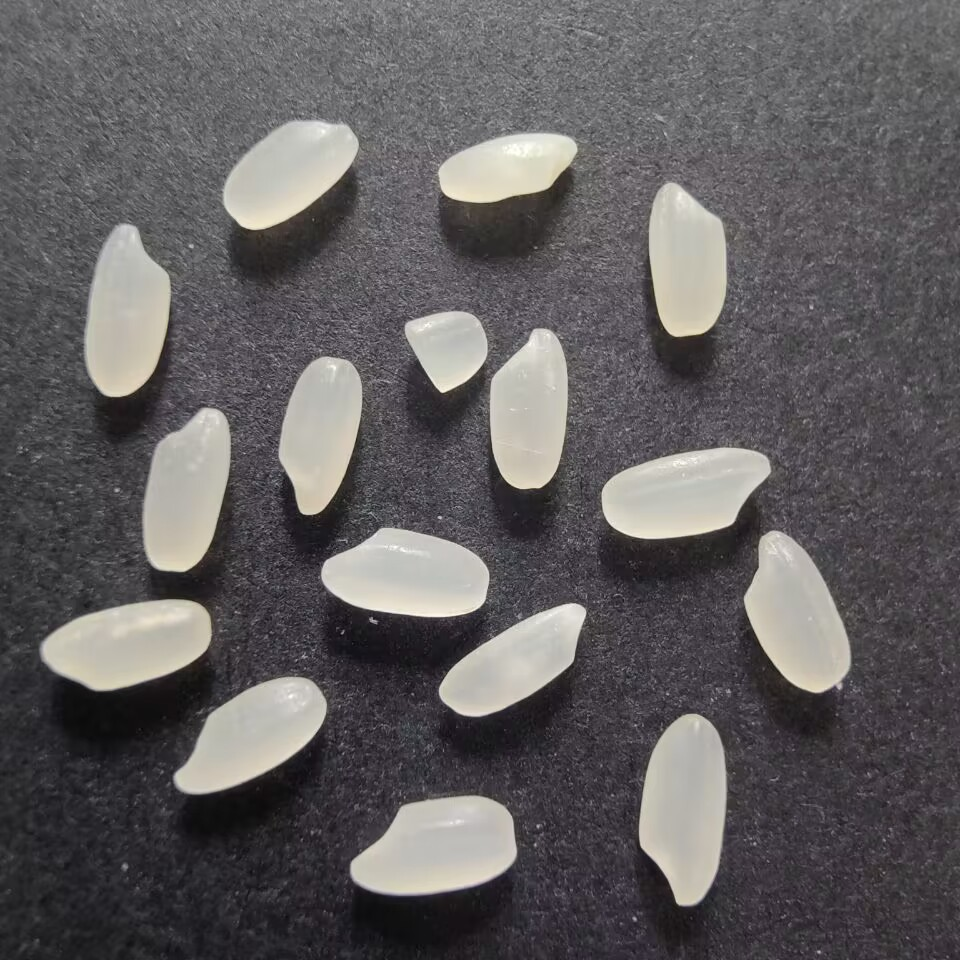broken: (397, 305, 494, 400)
rice: (163, 669, 332, 804), (635, 702, 734, 915), (742, 523, 859, 701), (338, 791, 523, 899), (435, 599, 592, 723), (31, 594, 217, 698), (77, 217, 177, 405), (318, 523, 495, 625), (594, 441, 773, 541), (214, 112, 360, 234), (135, 398, 235, 575), (483, 323, 576, 492), (641, 177, 735, 343), (276, 352, 365, 519), (431, 124, 582, 209)
